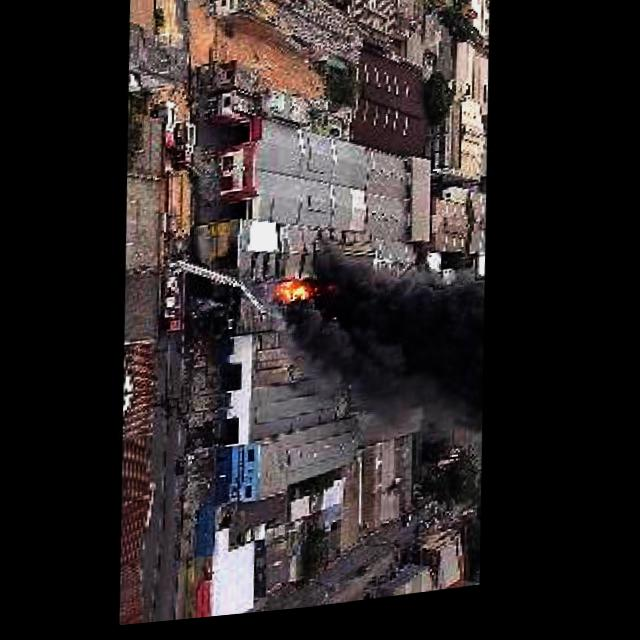helmet: (269, 265, 346, 325)
no_helmet: (315, 245, 507, 459)
